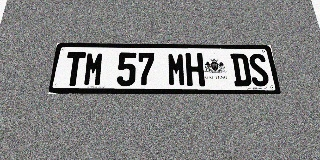5: (117, 52, 136, 86)
7: (136, 53, 155, 86)
D: (230, 53, 252, 86)
H: (185, 53, 205, 86)
M: (83, 52, 105, 86), (167, 53, 186, 86)
S: (248, 54, 270, 86)
T: (63, 52, 86, 86)
